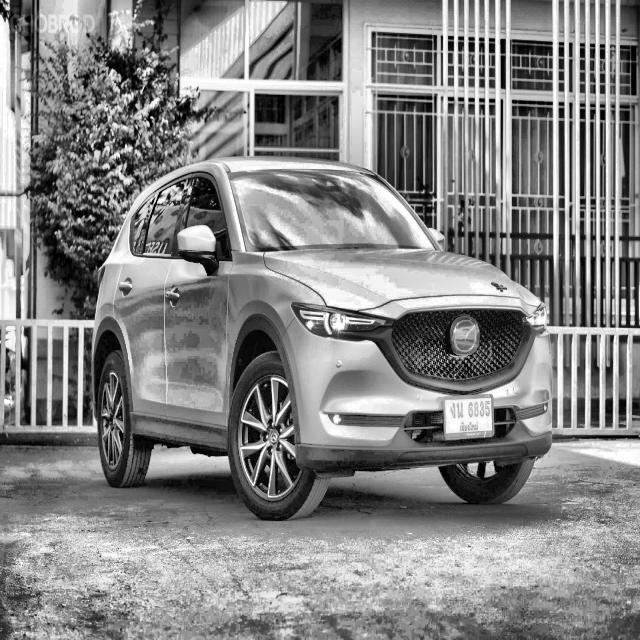license-plate: (438, 387, 499, 447)
